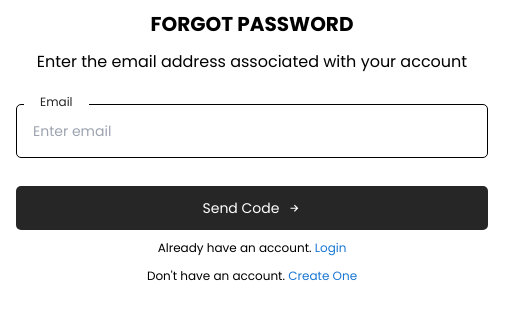
Test: ForgotPassword Component › displays an error message for invalid email format
Type "invalid-email" into the field with placeholder "Enter email" at (252, 131), box [25, 113, 479, 149]
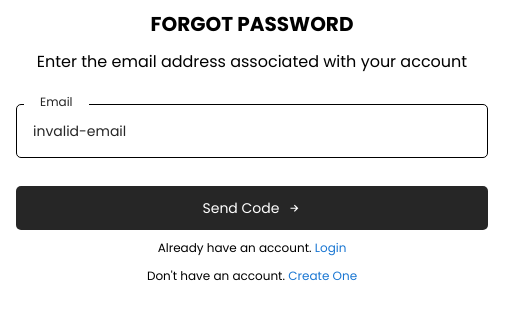
Leave the field with placeholder "Enter email", box [25, 113, 479, 149]
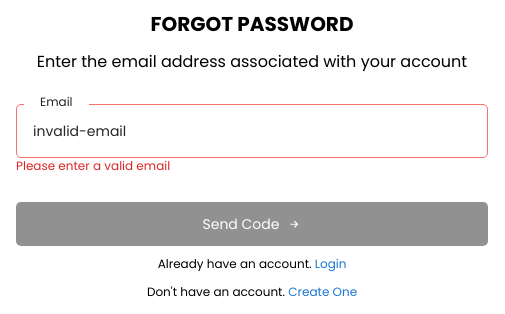
Expected: the text "Please enter a valid email" is shown, [16, 158, 170, 174]
